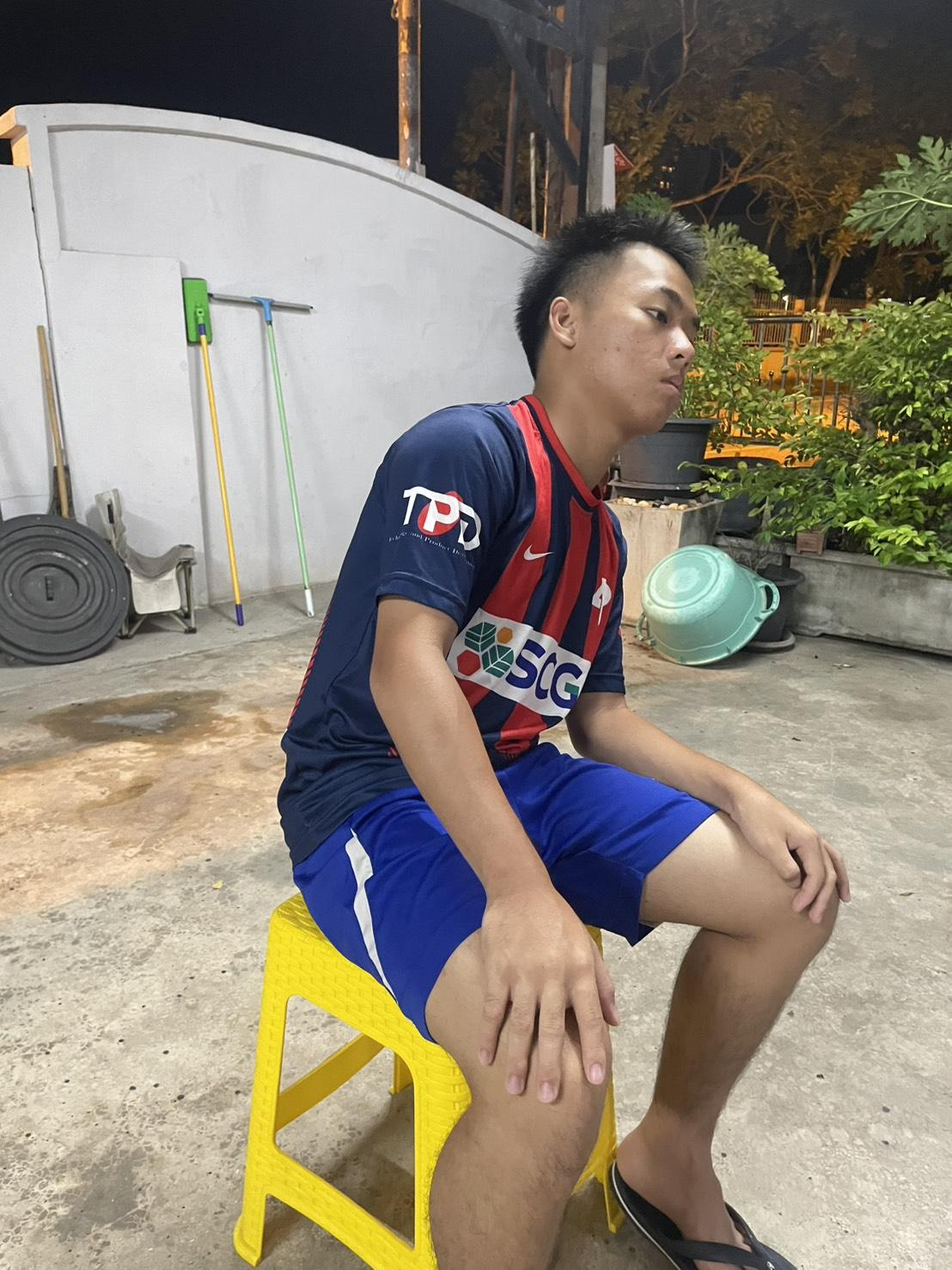BadPosture: (278, 208, 703, 860)
